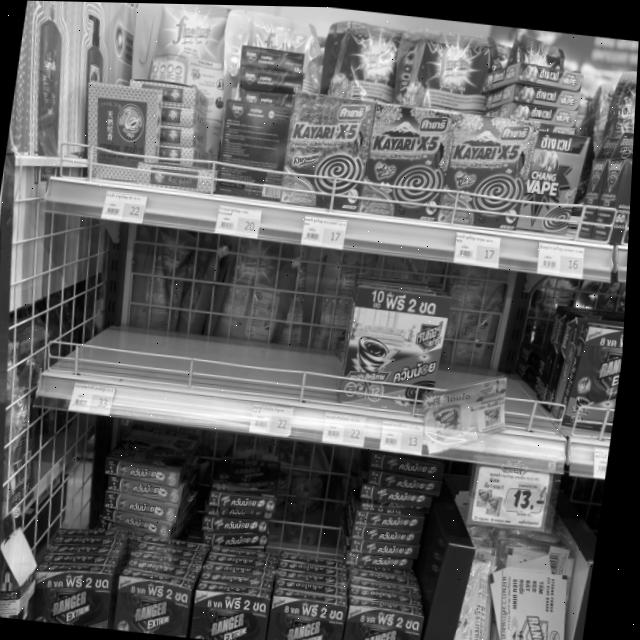empty_shelf: (40, 420, 447, 614), (52, 216, 355, 404), (431, 267, 587, 432)
